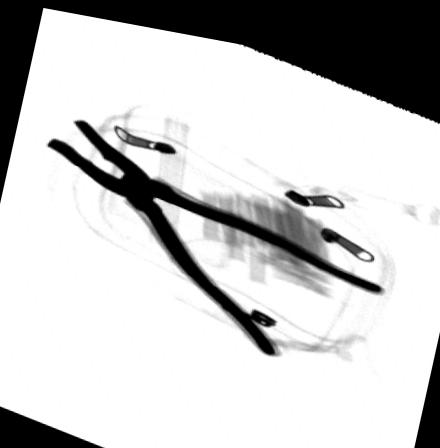Pliers: (44, 115, 384, 347)
